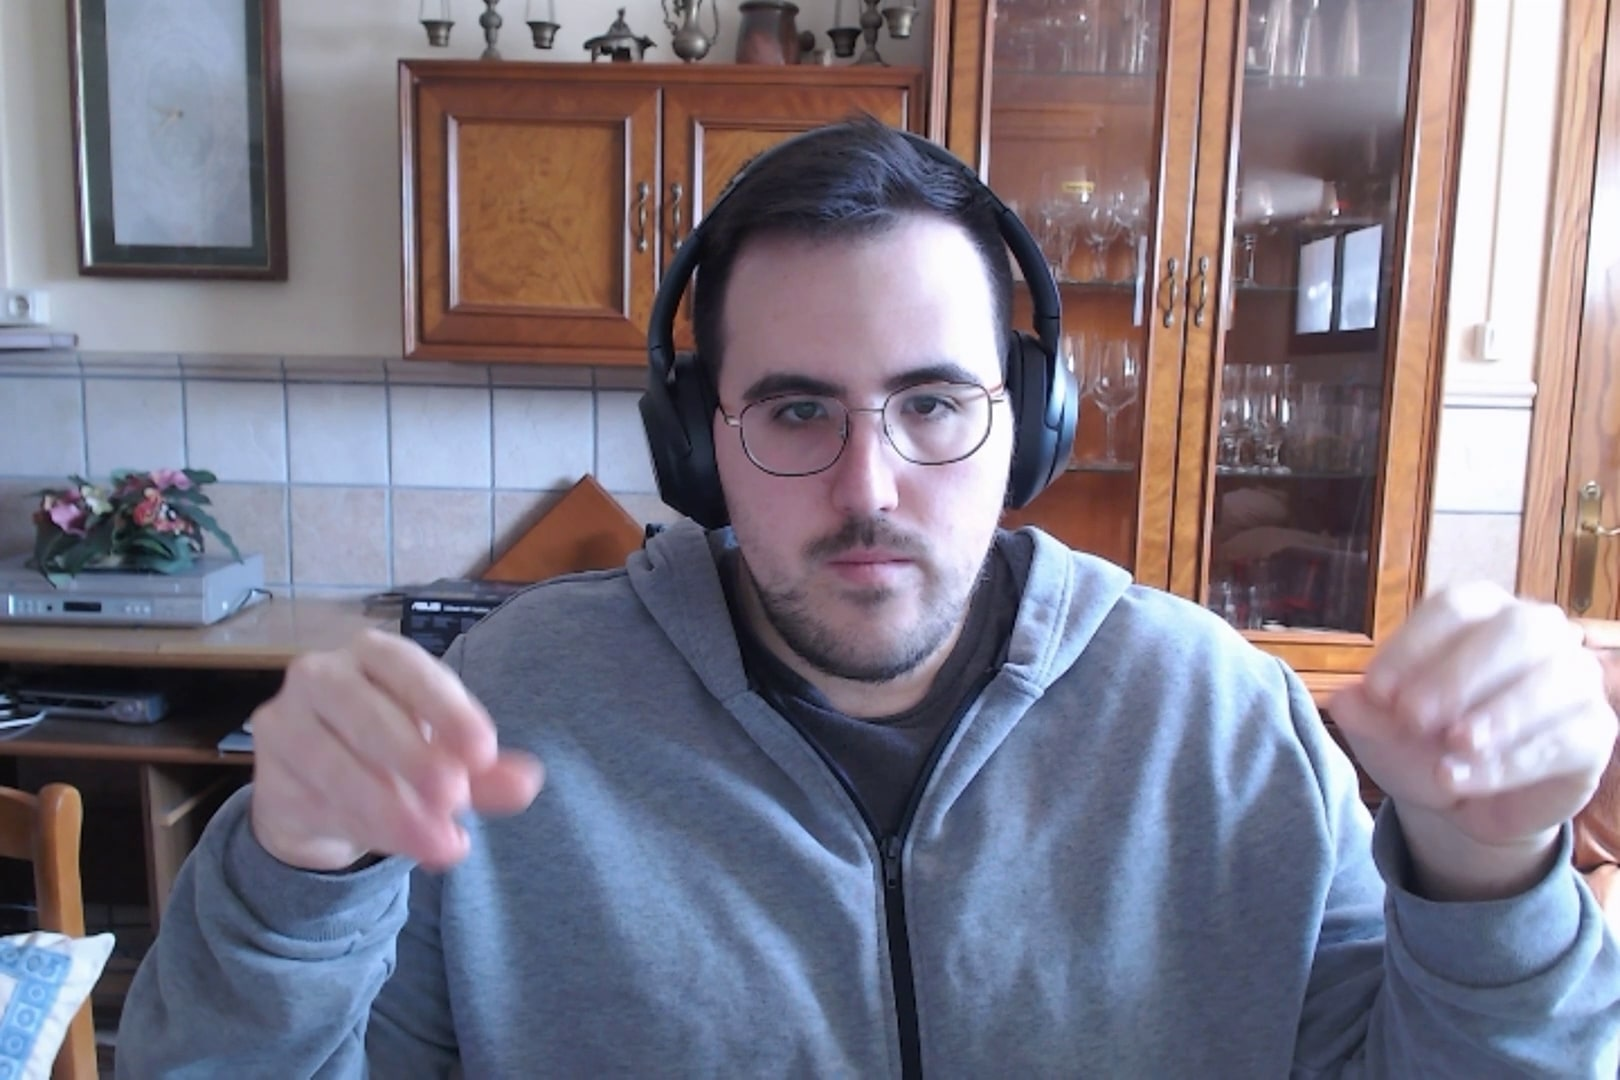hand: (1318, 580, 1620, 843), (247, 626, 551, 876)
